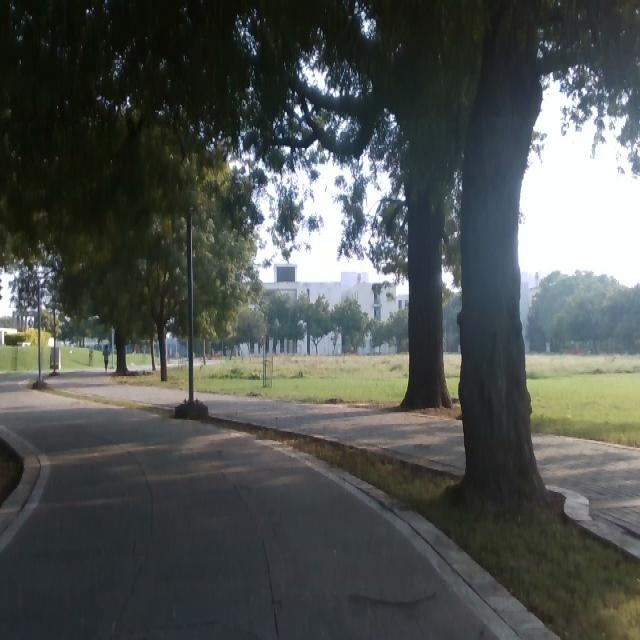lane: (0, 375, 500, 640)
